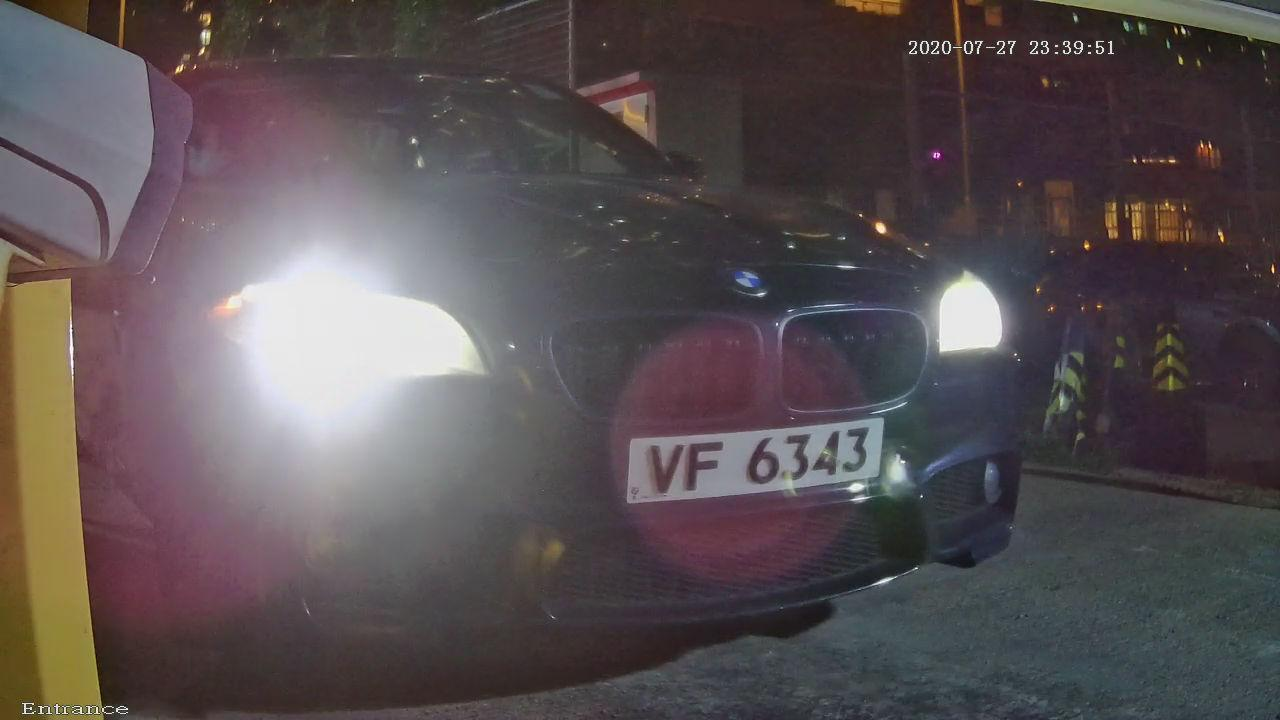privatecar: (84, 1, 1061, 657)
